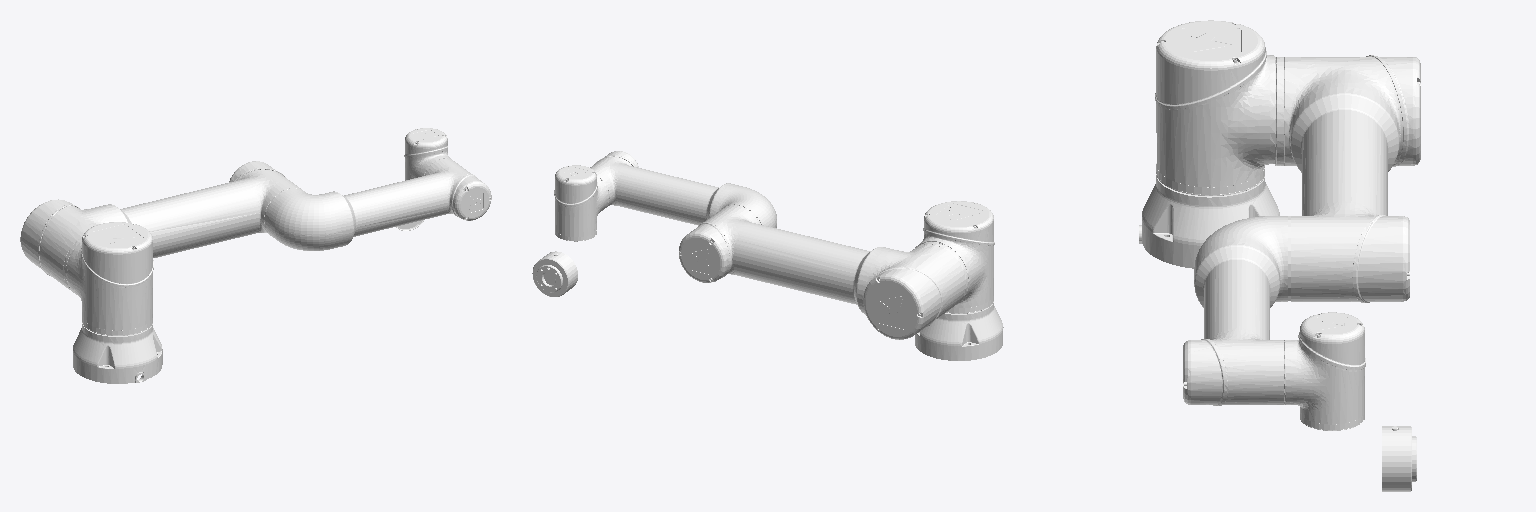
The robot description file, URDF, robot "GBT_C16A":
<?xml version="1.0" encoding="utf-8"?>
<!-- This URDF was automatically created by SolidWorks to URDF Exporter! Originally created by Stephen Brawner (brawner@gmail.com) 
     Commit Version: 1.6.0-1-g15f4949  Build Version: 1.6.7594.29634
     For more information, please see http://wiki.ros.org/sw_urdf_exporter -->
<robot
  name="GBT_C16A">
  <link
    name="base_link">
    <inertial>
      <origin
        xyz="1.33301360146722E-06 -0.00616408830371303 0.0516815599396511"
        rpy="0 0 0" />
      <mass
        value="13.8420238188937" />
      <inertia
        ixx="0.0402209002946215"
        ixy="1.33023985236199E-05"
        ixz="-7.5728592175057E-07"
        iyy="0.0320808729564654"
        iyz="0.000589928926648181"
        izz="0.0593524877670578" />
    </inertial>
    <visual>
      <origin
        xyz="0 0 0"
        rpy="0 0 0" />
      <geometry>
        <mesh
          filename="package://gbt_description/meshes/visual/c16a/c16a_base.dae" />
      </geometry>
      <material
        name="">
        <color
          rgba="1 1 1 1" />
      </material>
    </visual>
    <collision>
      <origin
        xyz="0 0 0"
        rpy="0 0 0" />
      <geometry>
        <mesh
          filename="package://gbt_description/meshes/collision/c16a/c16a_base.STL" />
      </geometry>
    </collision>
  </link>
  <link
    name="link1">
    <inertial>
      <origin
        xyz="-4.71267874760478E-05 0.0057888896498076 0.10293432736084"
        rpy="0 0 0" />
      <mass
        value="31.1501990144652" />
      <inertia
        ixx="0.154836982001998"
        ixy="5.762941462276E-05"
        ixz="1.01751815070728E-07"
        iyy="0.149492778870936"
        iyz="0.000121771535896935"
        izz="0.0979860661669849" />
    </inertial>
    <visual>
      <origin
        xyz="0 0 0"
        rpy="0 0 0" />
      <geometry>
        <mesh
          filename="package://gbt_description/meshes/visual/c16a/c16a_1.dae" />
      </geometry>
      <material
        name="">
        <color
          rgba="1 1 1 1" />
      </material>
    </visual>
    <collision>
      <origin
        xyz="0 0 0"
        rpy="0 0 0" />
      <geometry>
        <mesh
          filename="package://gbt_description/meshes/collision/c16a/c16a_1.STL" />
      </geometry>
    </collision>
  </link>
  <joint
    name="joint1"
    type="revolute">
    <origin
      xyz="0 0 0.094"
      rpy="0 0 0" />
    <parent
      link="base_link" />
    <child
      link="link1" />
    <axis
      xyz="0 0 1" />
    <limit
      lower="-6.283185307179"
      upper="6.283185307179"
      effort="100"
      velocity="1" />
  </joint>
  <link
    name="link2">
    <inertial>
      <origin
        xyz="0.195486783957097 1.35127910679544E-05 0.102928960009867"
        rpy="0 0 0" />
      <mass
        value="77.3799588228002" />
      <inertia
        ixx="0.258537864361677"
        ixy="0.000340011020527351"
        ixz="-0.00642832949026279"
        iyy="2.98579493520843"
        iyz="3.75616744324944E-05"
        izz="2.90555358847153" />
    </inertial>
    <visual>
      <origin
        xyz="0 0 0"
        rpy="0 0 0" />
      <geometry>
        <mesh
          filename="package://gbt_description/meshes/visual/c16a/c16a_2.dae" />
      </geometry>
      <material
        name="">
        <color
          rgba="1 1 1 1" />
      </material>
    </visual>
    <collision>
      <origin
        xyz="0 0 0"
        rpy="0 0 0" />
      <geometry>
        <mesh
          filename="package://gbt_description/meshes/collision/c16a/c16a_2.STL" />
      </geometry>
    </collision>
  </link>
  <joint
    name="joint2"
    type="revolute">
    <origin
      xyz="0 0.082 0.102"
      rpy="-1.5708 0 0" />
    <parent
      link="link1" />
    <child
      link="link2" />
    <axis
      xyz="0 0 -1" />
    <limit
      lower="-1.483529864195"
      upper="4.625122517784"
      effort="100"
      velocity="1" />
  </joint>
  <link
    name="link3">
    <inertial>
      <origin
        xyz="-0.178416784377752 3.57162691924651E-06 0.060338121448731"
        rpy="0 0 0" />
      <mass
        value="31.0838905830824" />
      <inertia
        ixx="0.051261740846832"
        ixy="1.64560898355033E-05"
        ixz="0.021314063622931"
        iyy="0.671544701475308"
        iyz="-2.20352566173481E-06"
        izz="0.660420893373503" />
    </inertial>
    <visual>
      <origin
        xyz="0 0 0"
        rpy="0 0 0" />
      <geometry>
        <mesh
          filename="package://gbt_description/meshes/visual/c16a/c16a_3.dae" />
      </geometry>
      <material
        name="">
        <color
          rgba="1 1 1 1" />
      </material>
    </visual>
    <collision>
      <origin
        xyz="0 0 0"
        rpy="0 0 0" />
      <geometry>
        <mesh
          filename="package://gbt_description/meshes/collision/c16a/c16a_3.STL" />
      </geometry>
    </collision>
  </link>
  <joint
    name="joint3"
    type="revolute">
    <origin
      xyz="0.48 0 0.018"
      rpy="-3.1416 0 3.1416" />
    <parent
      link="link2" />
    <child
      link="link3" />
    <axis
      xyz="0 0 1" />
    <limit
      lower="-2.879793265790"
      upper="2.879793265790"
      effort="100"
      velocity="1" />
  </joint>
  <link
    name="link4">
    <inertial>
      <origin
        xyz="6.50176670324853E-06 2.84501828613226E-05 0.0515242101702979"
        rpy="0 0 0" />
      <mass
        value="8.31372682014782" />
      <inertia
        ixx="0.0191355192345629"
        ixy="1.55540435454683E-07"
        ixz="3.17241145505299E-07"
        iyy="0.0100182469096591"
        iyz="-1.11547225614069E-05"
        izz="0.0179431883590845" />
    </inertial>
    <visual>
      <origin
        xyz="0 0 0"
        rpy="0 0 0" />
      <geometry>
        <mesh
          filename="package://gbt_description/meshes/visual/c16a/c16a_4.dae" />
      </geometry>
      <material
        name="">
        <color
          rgba="1 1 1 1" />
      </material>
    </visual>
    <collision>
      <origin
        xyz="0 0 0"
        rpy="0 0 0" />
      <geometry>
        <mesh
          filename="package://gbt_description/meshes/collision/c16a/c16a_4.STL" />
      </geometry>
    </collision>
  </link>
  <joint
    name="joint4"
    type="revolute">
    <origin
      xyz="-0.37 0 -0.0098"
      rpy="-3.1416 0 3.1416" />
    <parent
      link="link3" />
    <child
      link="link4" />
    <axis
      xyz="0 0 -1" />
    <limit
      lower="-1.483529864195"
      upper="4.625122517784"
      effort="100"
      velocity="0" />
  </joint>
  <link
    name="link5">
    <inertial>
      <origin
        xyz="-6.92495234433377E-06 -3.1252560565298E-06 -0.0515254760378946"
        rpy="0 0 0" />
      <mass
        value="8.3160322765612" />
      <inertia
        ixx="0.0191572064909686"
        ixy="-2.8320293401359E-07"
        ixz="4.27186848686796E-07"
        iyy="0.0100128626777276"
        iyz="9.07663155425601E-06"
        izz="0.017964291723577" />
    </inertial>
    <visual>
      <origin
        xyz="0 0 0"
        rpy="0 0 0" />
      <geometry>
        <mesh
          filename="package://gbt_description/meshes/visual/c16a/c16a_5.dae" />
      </geometry>
      <material
        name="">
        <color
          rgba="1 1 1 1" />
      </material>
    </visual>
    <collision>
      <origin
        xyz="0 0 0"
        rpy="0 0 0" />
      <geometry>
        <mesh
          filename="package://gbt_description/meshes/collision/c16a/c16a_5.STL" />
      </geometry>
    </collision>
  </link>
  <joint
    name="joint5"
    type="revolute">
    <origin
      xyz="0 0.0738 0.057"
      rpy="1.5708 0 0" />
    <parent
      link="link4" />
    <child
      link="link5" />
    <axis
      xyz="0 0 -1" />
    <limit
      lower="-6.283185307179"
      upper="6.283185307179"
      effort="100"
      velocity="1" />
  </joint>
  <link
    name="link6">
    <inertial>
      <origin
        xyz="1.44604180851715E-08 0.000134230776969571 0.0189327850855688"
        rpy="0 0 0" />
      <mass
        value="1.92416514196933" />
      <inertia
        ixx="0.00120427681943017"
        ixy="1.95743889305468E-09"
        ixz="1.77375460507358E-09"
        iyy="0.00121783787068554"
        iyz="1.15549591269221E-06"
        izz="0.00191743883679376" />
    </inertial>
    <visual>
      <origin
        xyz="0 0 0"
        rpy="0 0 0" />
      <geometry>
        <mesh
          filename="package://gbt_description/meshes/visual/c16a/c16a_6.dae" />
      </geometry>
      <material
        name="">
        <color
          rgba="1 1 1 1" />
      </material>
    </visual>
    <collision>
      <origin
        xyz="0 0 0"
        rpy="0 0 0" />
      <geometry>
        <mesh
          filename="package://gbt_description/meshes/collision/c16a/c16a_6.STL" />
      </geometry>
    </collision>
  </link>
  <joint
    name="joint6"
    type="revolute">
    <origin
      xyz="0 0.0738 -0.057"
      rpy="-1.5708 0 0" />
    <parent
      link="link5" />
    <child
      link="link6" />
    <axis
      xyz="0 0 1" />
    <limit
      lower="-6.283185307179"
      upper="6.283185307179"
      effort="100"
      velocity="1" />
  </joint>
</robot>

--- Render facts (derived) ---
3 views of the same robot in one strip: view 1: azimuth 30°, elevation 25°; view 2: azimuth 150°, elevation 25°; view 3: azimuth 270°, elevation 25° (orthographic).
Model GBT_C16A with 7 links and 6 joints (6 revolute), rooted at base_link, posed all joints at 0.
Links seen in each view (by area): view 1: link2, link3, link1, base_link, link4; view 2: link2, link3, link1, base_link, link4, link6; view 3: link2, link1, link3, link4, base_link, link6.
Boxes of the visible links, x1,y1,x2,y2 form: link2: (20, 161, 301, 294); link3: (265, 158, 491, 250); link1: (66, 222, 153, 335); base_link: (73, 323, 162, 383); link4: (404, 128, 451, 180); link2: (679, 205, 968, 339); link3: (590, 151, 776, 227); link1: (915, 201, 994, 313); base_link: (915, 302, 1003, 360); link4: (554, 165, 608, 241); link6: (532, 251, 577, 296); link2: (1275, 55, 1420, 302); link1: (1155, 20, 1274, 195); link3: (1183, 216, 1287, 405); link4: (1286, 312, 1365, 430); base_link: (1139, 174, 1279, 268); link6: (1382, 426, 1416, 491).
Bounding box of the posed robot: 0.9915 × 0.3868 × 0.3029 m (x, y, z).
Meshes: 7 distinct files referenced, 6 mesh visuals loaded (6 Collada DAE); not drawn: 1 (reference not matched to a file when rendering).
